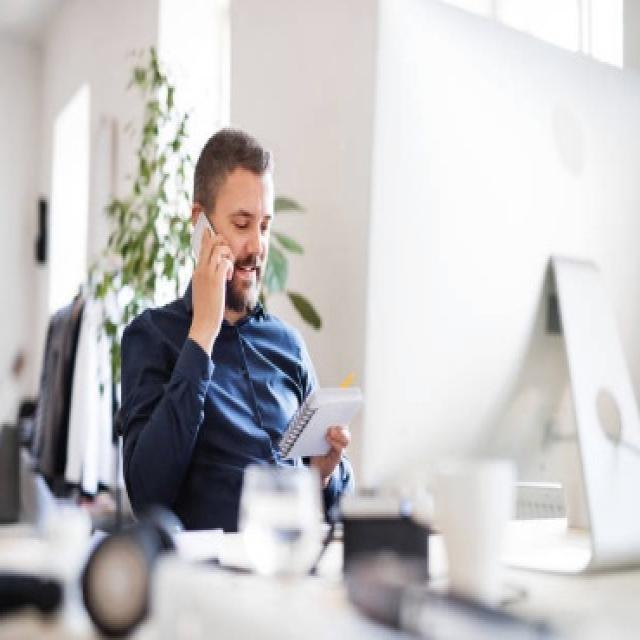adult: (128, 106, 352, 556)
